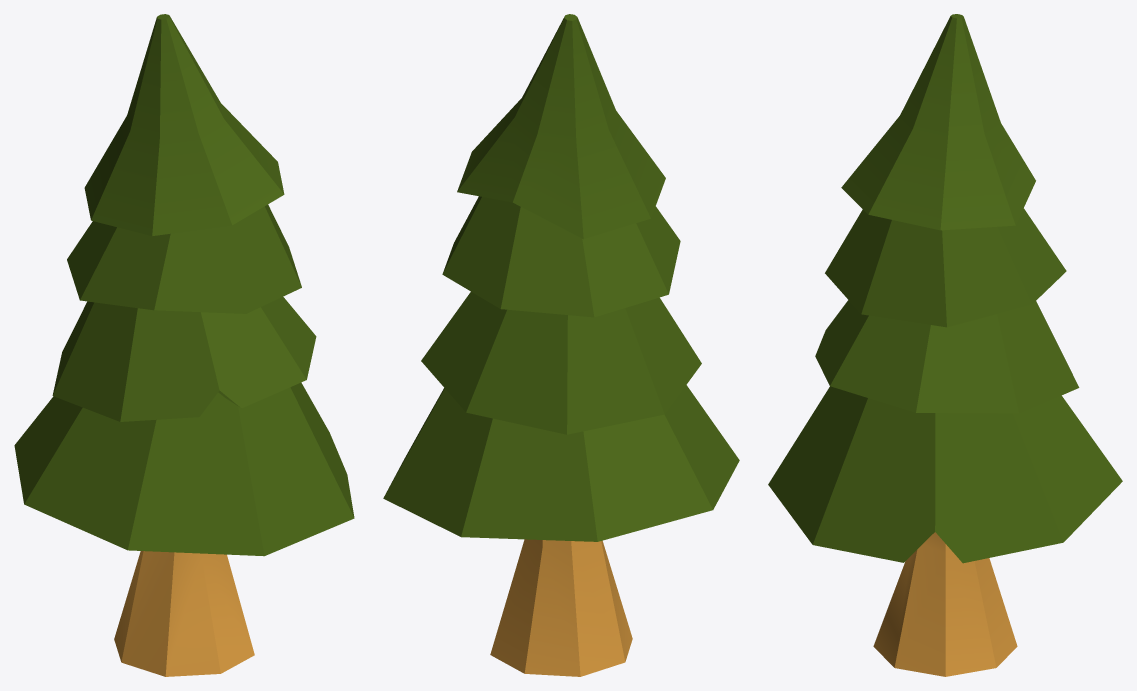
Rendered from object_landscape_tree_deciduous_adult.glb.
3 views of the same model, side by side, from view 1: azimuth 30°, elevation 25°; view 2: azimuth 150°, elevation 25°; view 3: azimuth 270°, elevation 25° (orthographic). The views are drawn at different scales.
Visible parts, largest first — view 1: object_landscape_tree_deciduous_adult; view 2: object_landscape_tree_deciduous_adult; view 3: object_landscape_tree_deciduous_adult.
Part boxes in pixels (<box>): object_landscape_tree_deciduous_adult: <box>14,14,354,676</box>; object_landscape_tree_deciduous_adult: <box>383,14,739,676</box>; object_landscape_tree_deciduous_adult: <box>768,14,1122,676</box>.
Bounding box in the file's own units: 0.4361 × 0.8702 × 0.4488.
